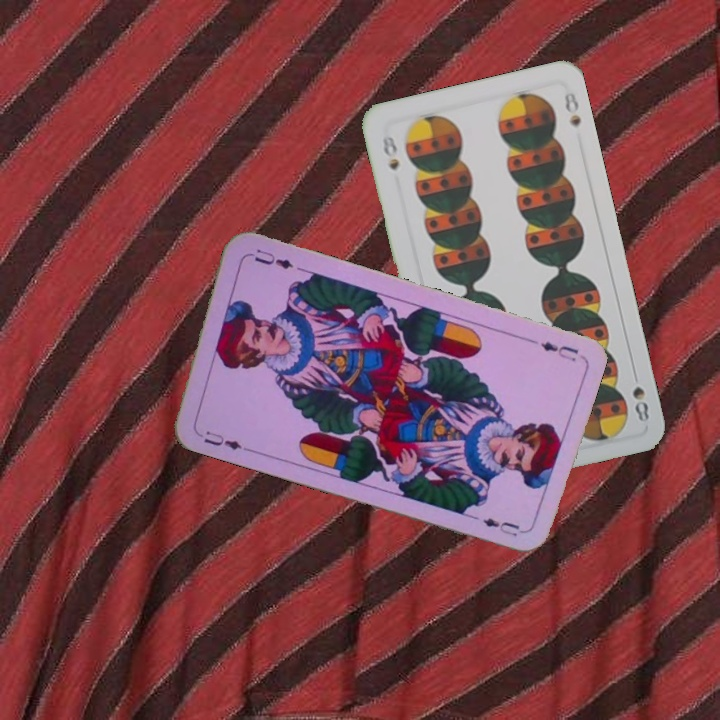EU: (191, 425, 245, 453), (537, 337, 581, 364)
S8: (628, 366, 652, 425), (378, 132, 402, 174)
